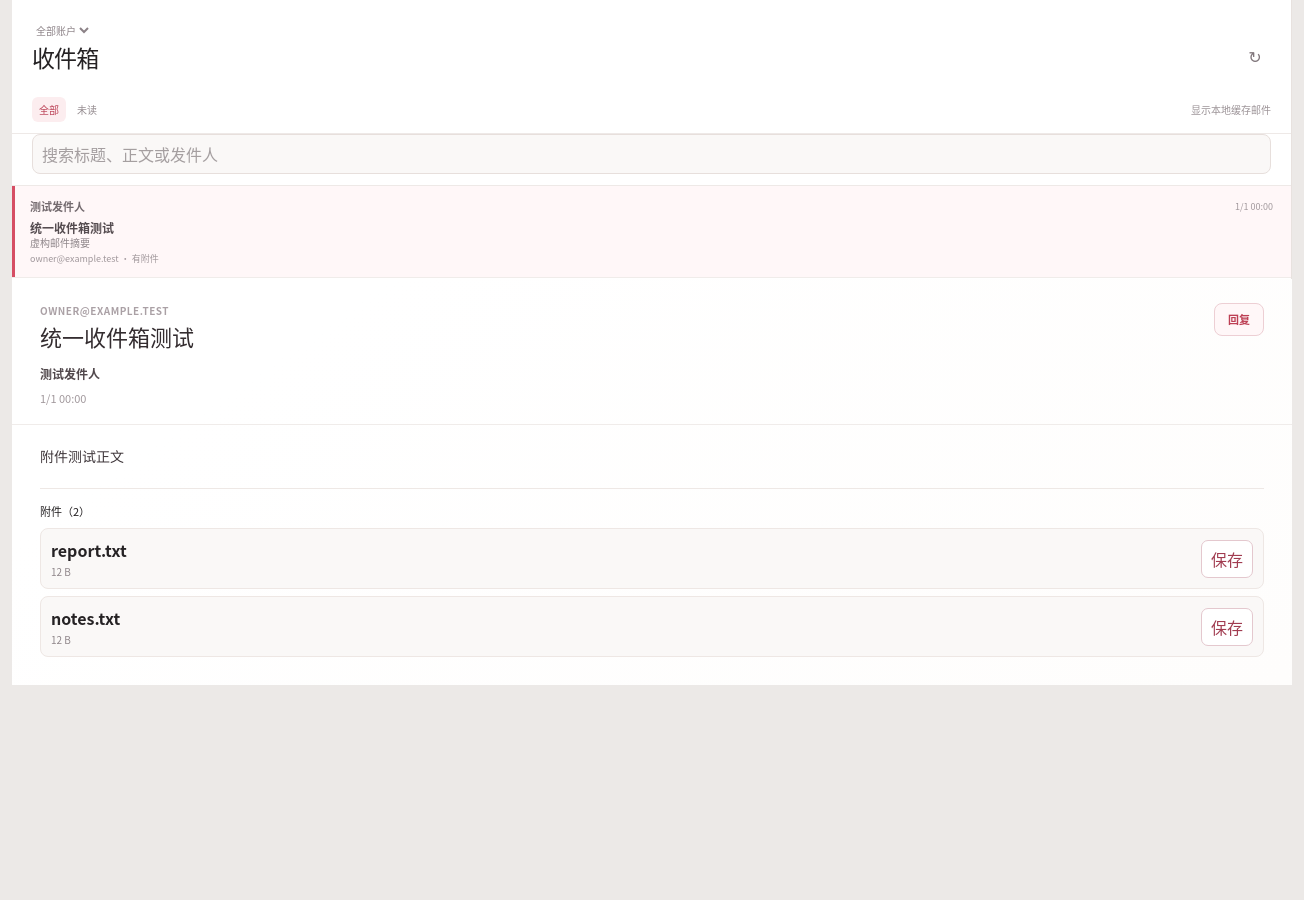
Test case: MailWorkspace › 显示附件进度并在取消后立即恢复保存操作
Check: the list item "report.txt" is shown, box [51,538,127,562]
Check: the list item "notes.txt" is shown, box [51,606,120,630]
Click the button "保存" in the row of "report.txt" at (1227, 559), box [1201,540,1253,578]
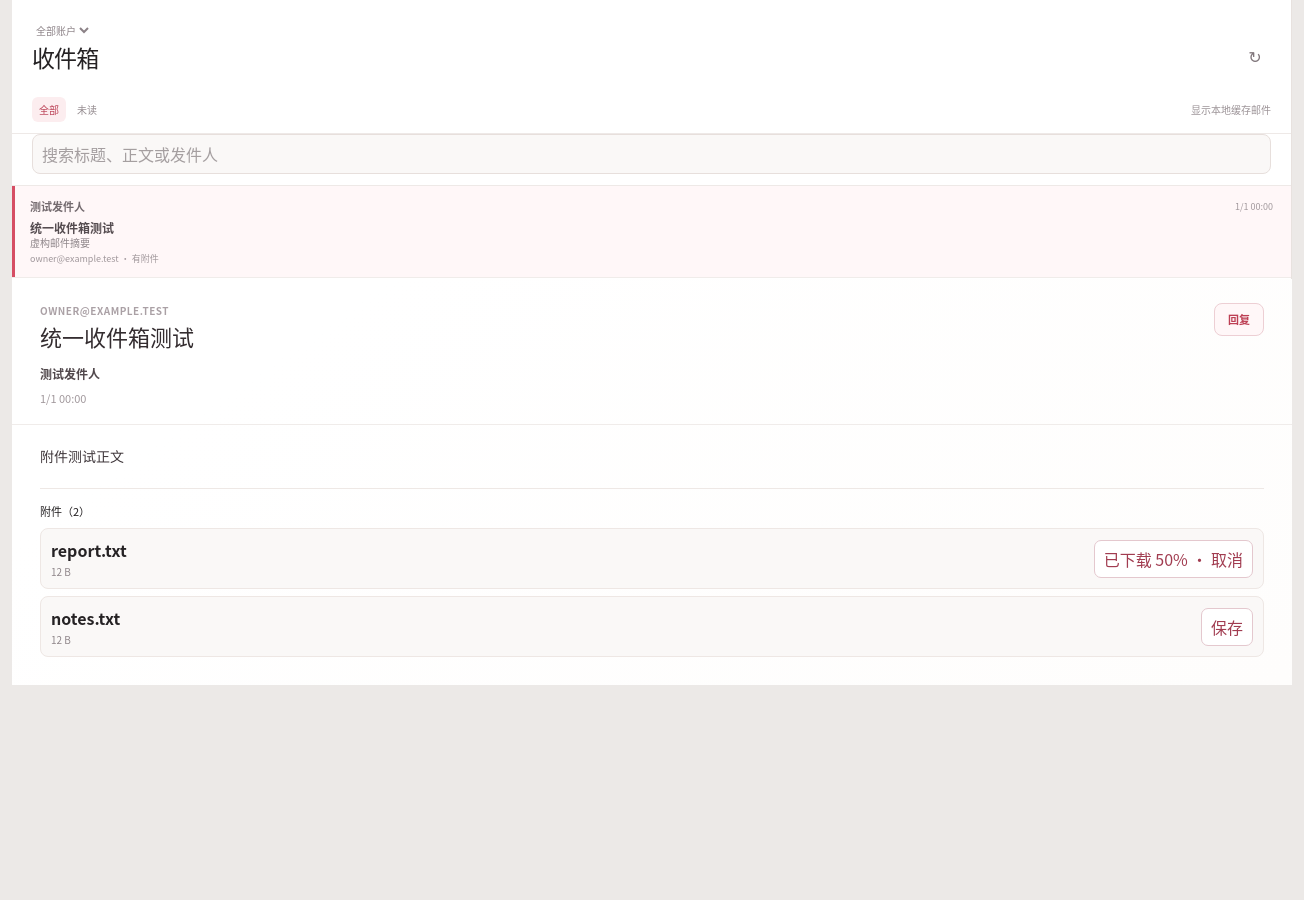
Check: the button "保存" is shown, box [1201,608,1253,646]
Click the button "已下载 50% · 取消" at (1173, 559), box [1094,540,1253,578]
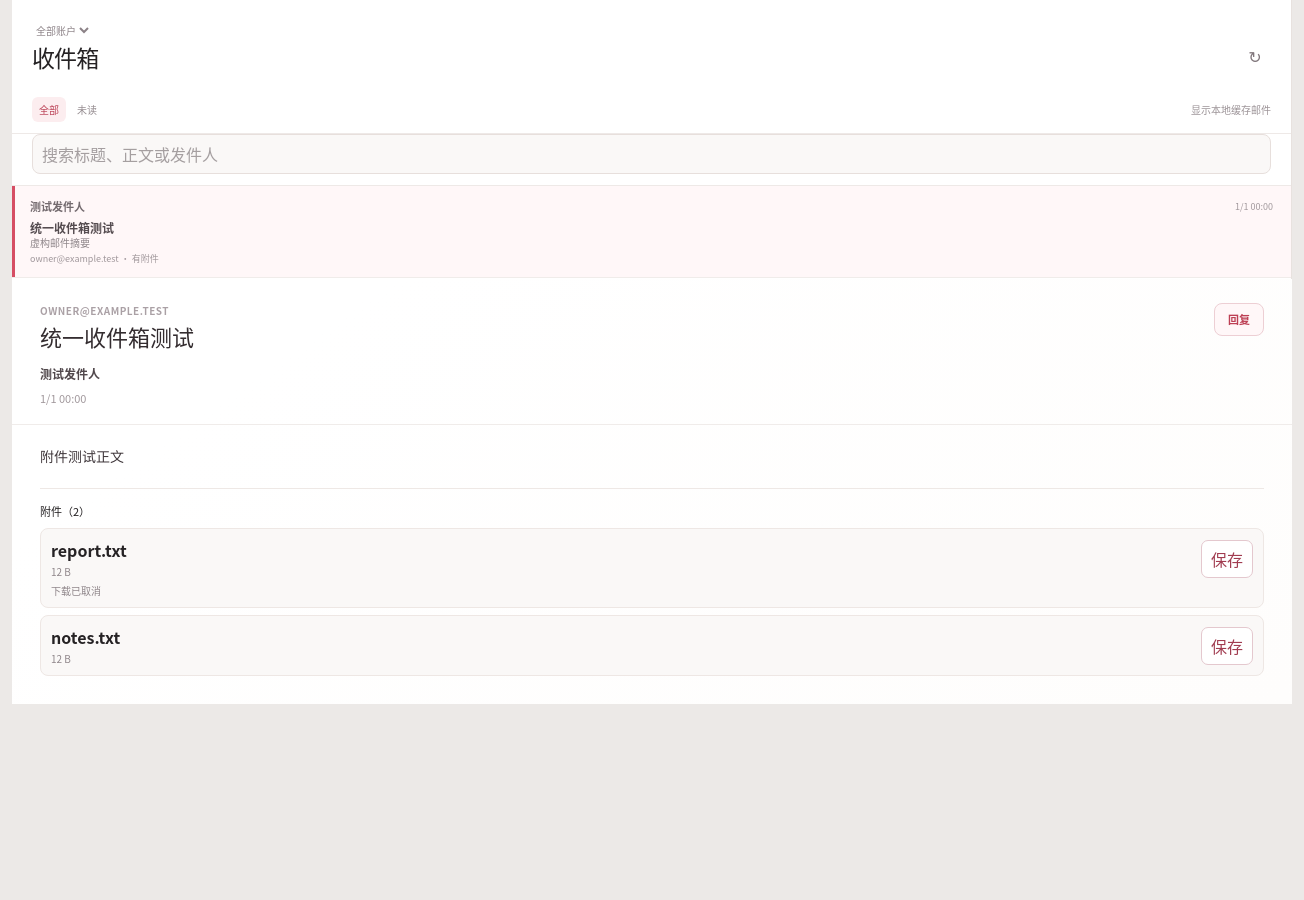
Check: the text "下载已取消" is shown, box [51,583,101,598]
Check: the button "保存" in the row of "report.txt" is shown, box [1201,540,1253,578]
